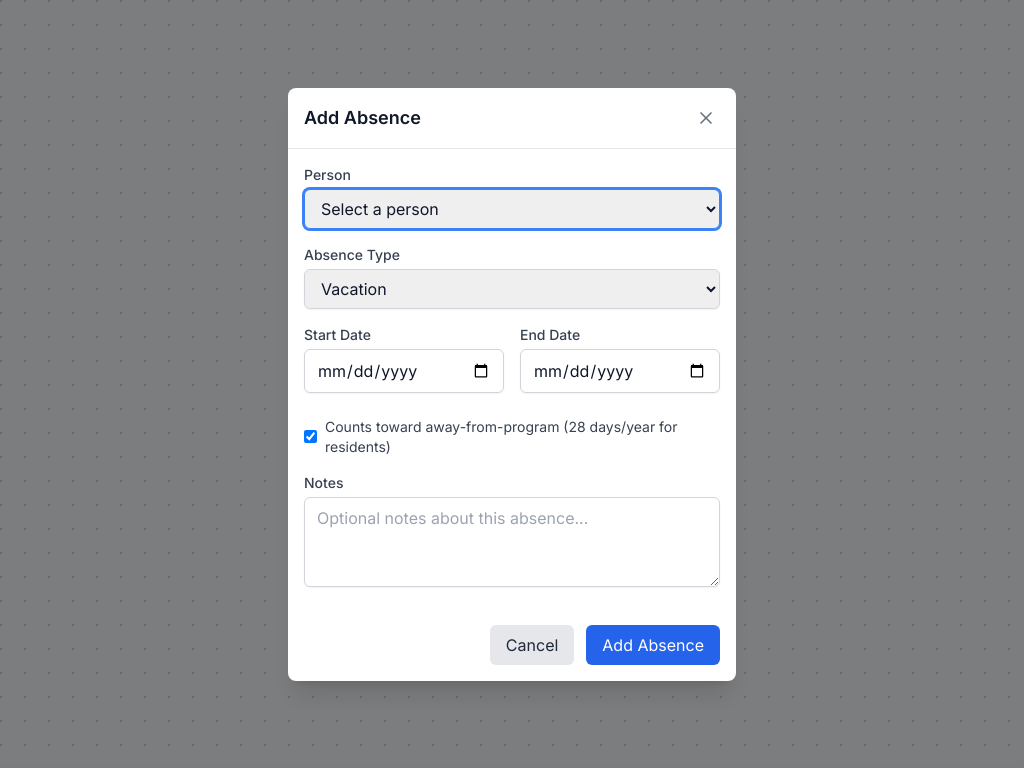
Test: AddAbsenceModal › Date Range Validation › should show error when person is not selected
This screenshot has width=1024, height=768.
Click the button "Add Absence".
click(653, 644)  # box [586,624,720,664]
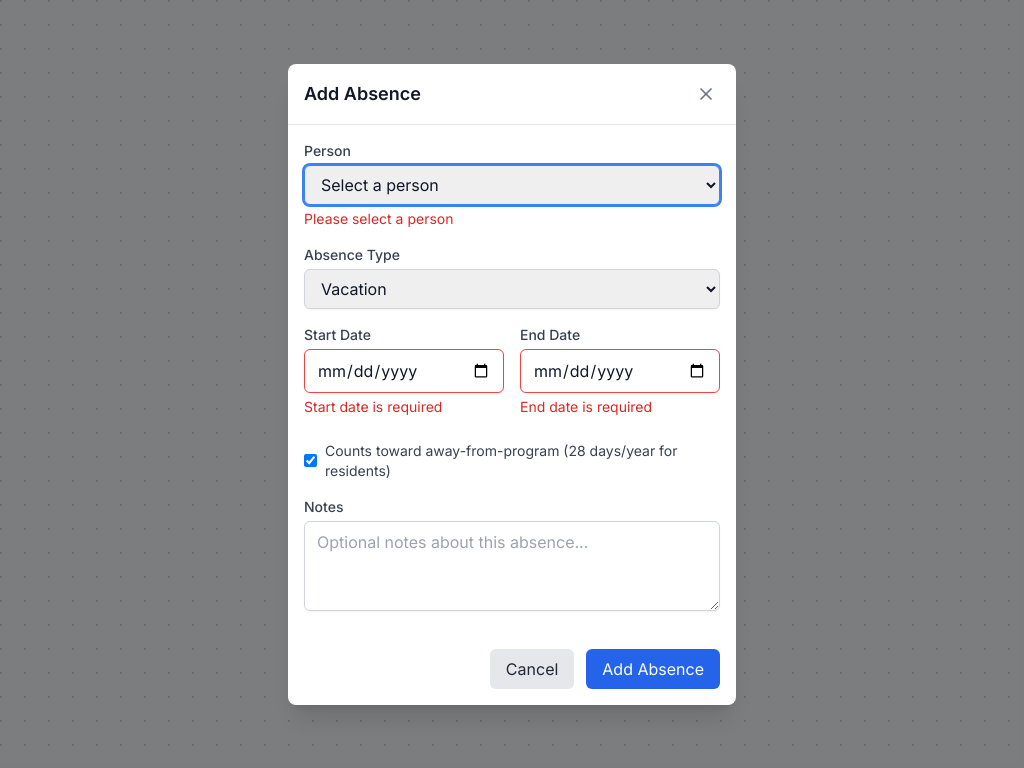
Expected: the text "Please select a person" is shown, [304,210,454,226]
